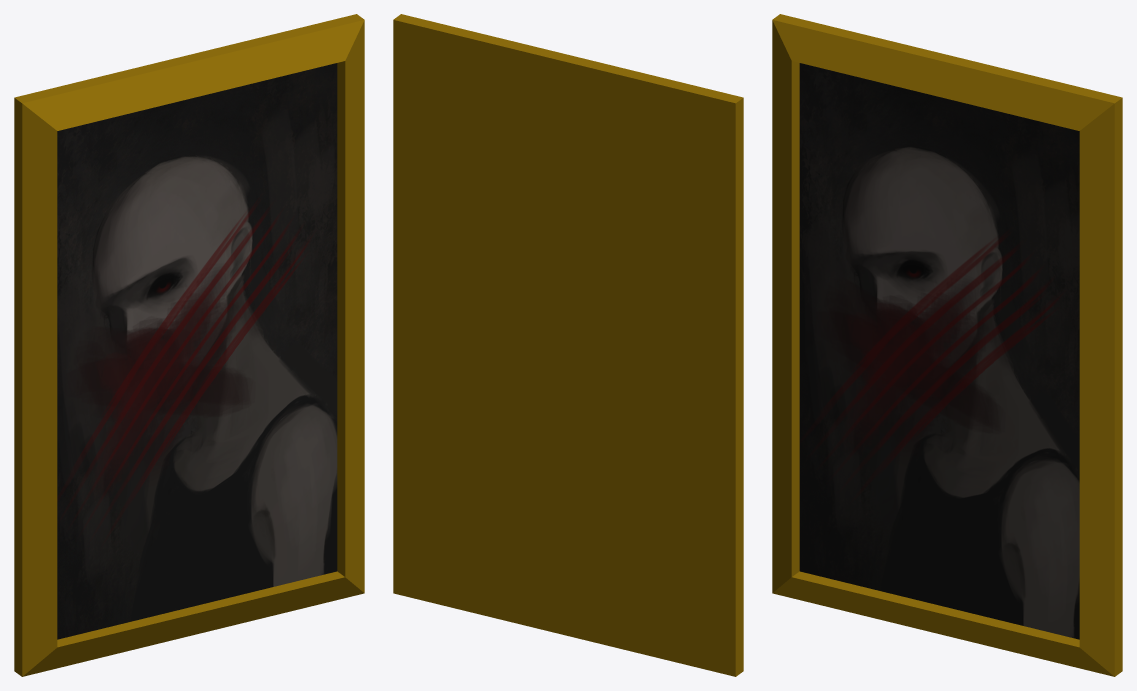
Rendered from pictureFake.fbx.
3 views of the same model, side by side, from view 1: azimuth 30°, elevation 25°; view 2: azimuth 150°, elevation 25°; view 3: azimuth 330°, elevation 25° (orthographic).
Visible parts, largest first — view 1: Box001; view 2: Box001; view 3: Box001.
Boxes of the visible parts, box(x1,y1,x2,y2) form: Box001: box(14, 14, 364, 676); Box001: box(393, 14, 743, 676); Box001: box(772, 14, 1122, 676).
Size of the model in its own units: 250 by 400 by 20.
